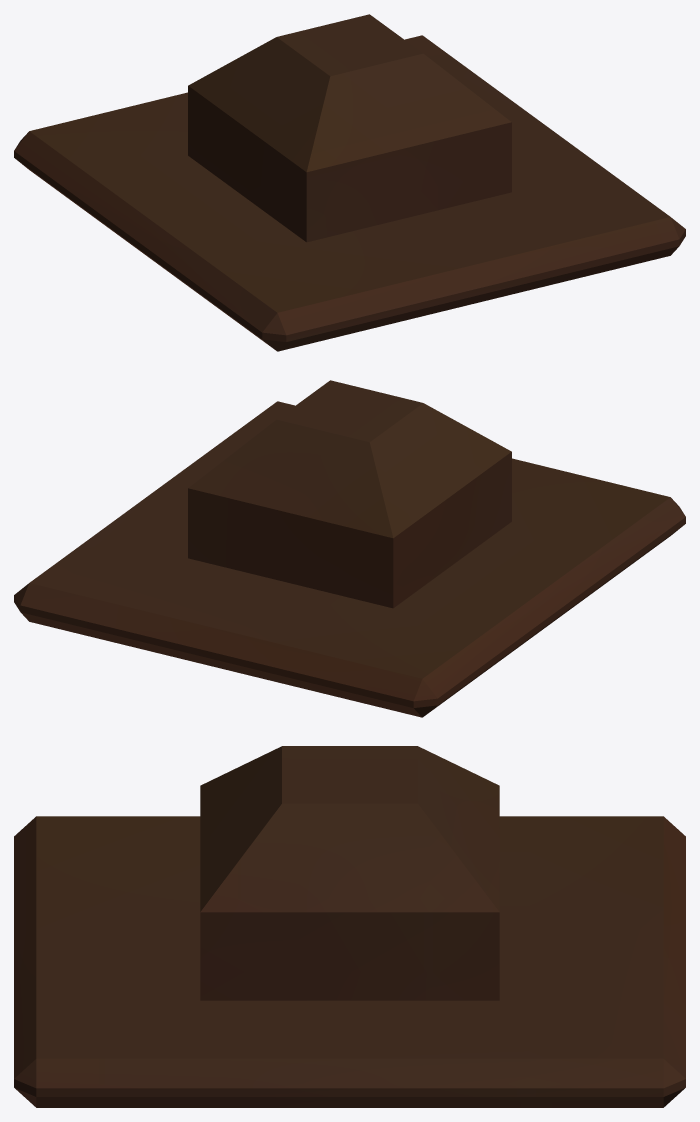
Rendered from Perry_Hat.obj.
The picture shows the model from 3 angles, top to bottom: view 1: azimuth 30°, elevation 25°; view 2: azimuth 150°, elevation 25°; view 3: azimuth 270°, elevation 25°; orthographic projection. The views are drawn at different scales.
Visible parts, largest first — view 1: Sombrero; view 2: Sombrero; view 3: Sombrero.
Part boxes in pixels (x1,y1,x2,y2): Sombrero: [14, 14, 685, 351]; Sombrero: [14, 380, 685, 717]; Sombrero: [14, 746, 685, 1107].
Bounding box in the file's own units: 1.11 × 0.4197 × 1.21.
